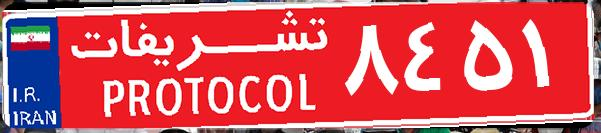1: (520, 20, 580, 115)
4: (400, 20, 460, 115)
5: (460, 20, 520, 115)
8: (340, 20, 400, 115)
تشریفات: (60, 8, 340, 125)
